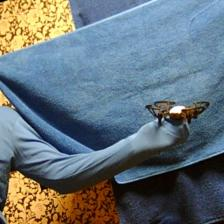drone: (144, 97, 211, 128)
